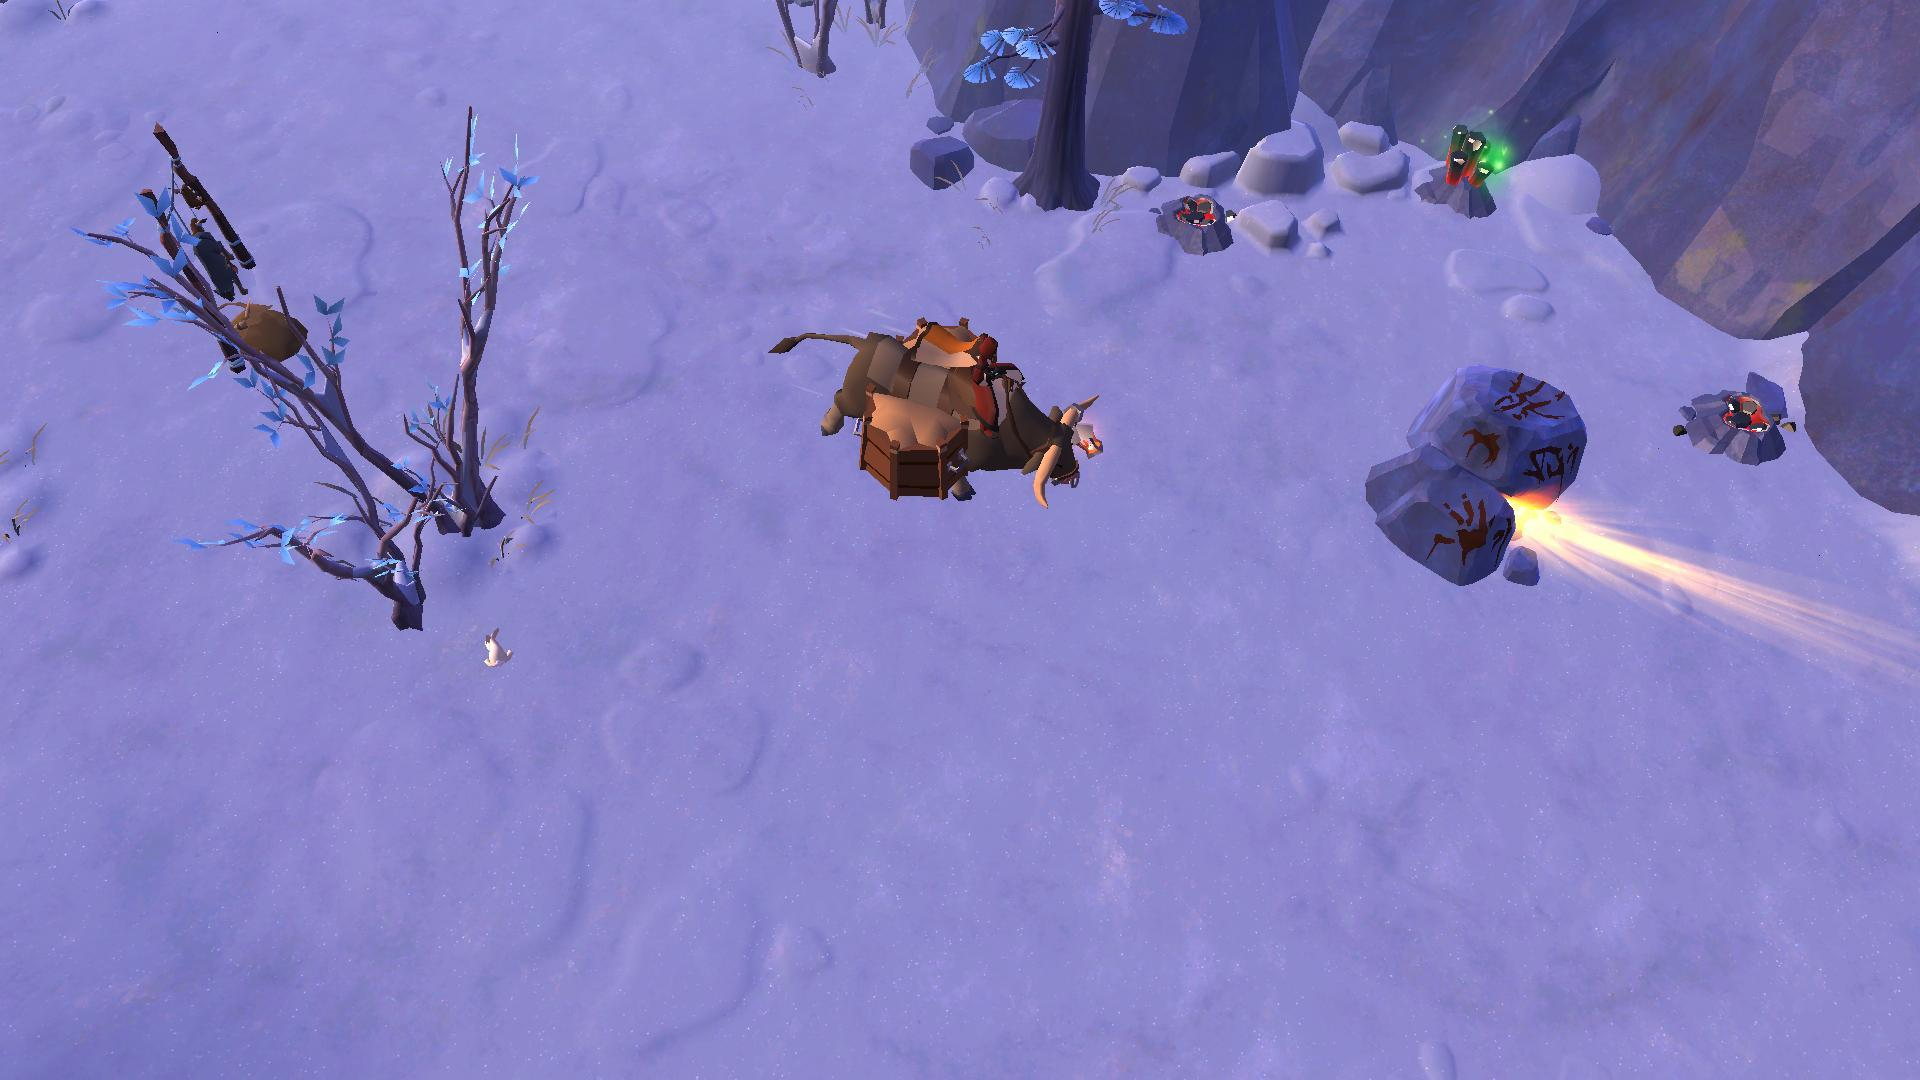ore_t5: (1441, 120, 1491, 191)
